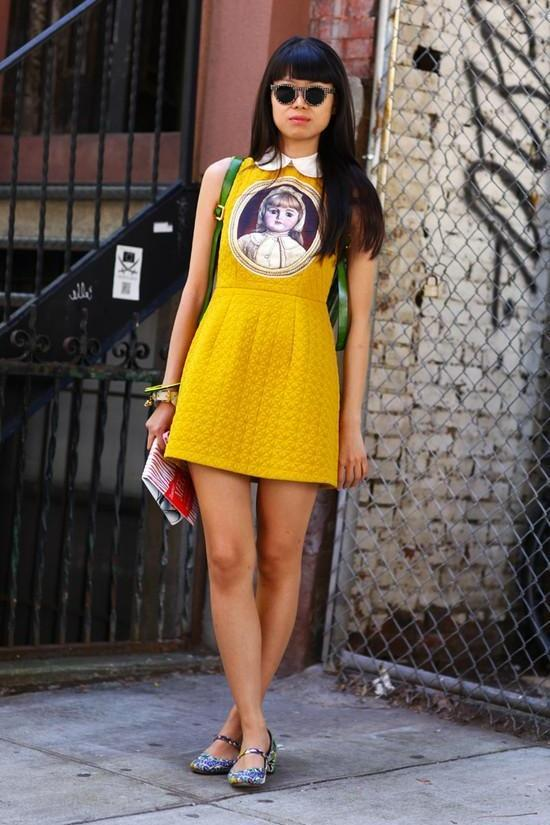dress: (164, 150, 340, 489)
